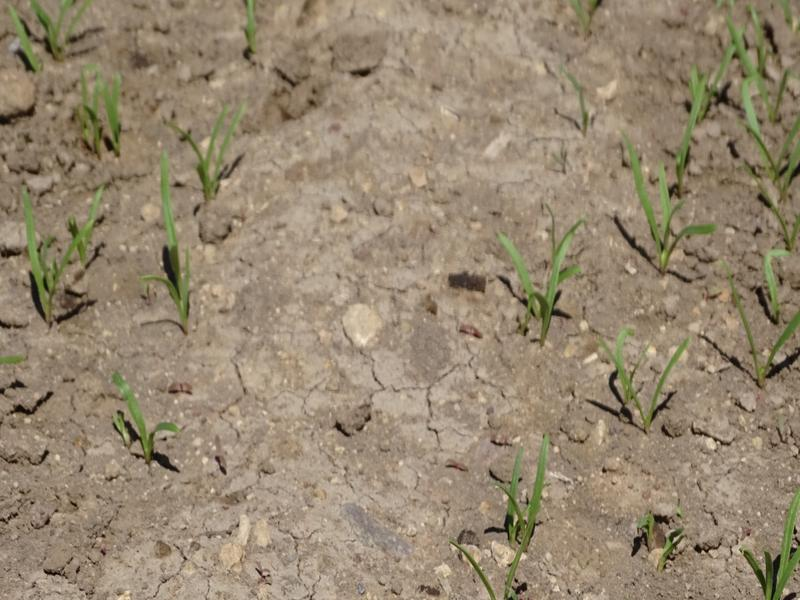Espinaca: (729, 24, 800, 376), (493, 203, 578, 329), (629, 144, 707, 258), (22, 191, 107, 292), (606, 328, 685, 428), (153, 155, 198, 313), (113, 368, 172, 460), (185, 103, 240, 199), (504, 432, 552, 537), (751, 487, 800, 583), (12, 1, 83, 58), (81, 77, 133, 150), (683, 59, 724, 135)
